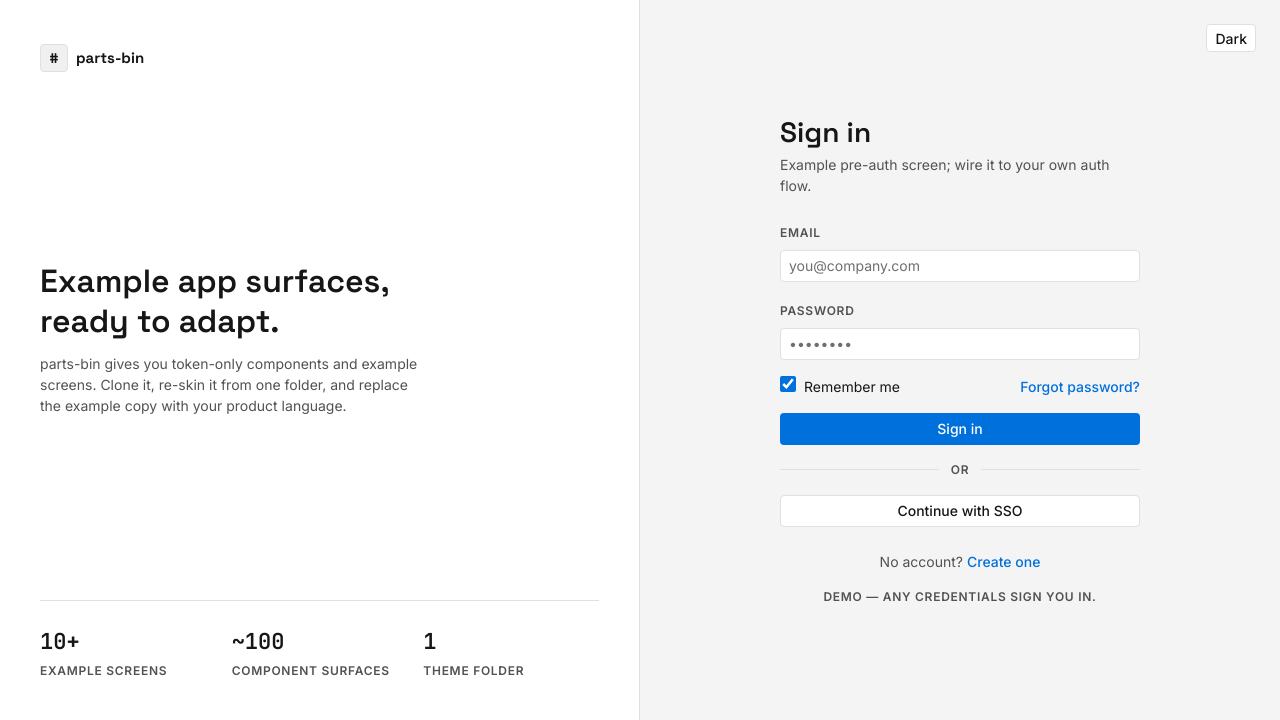
Scenario: empty submit surfaces an inline error and does not enter loading
This screenshot has width=1280, height=720.
Click the button "Sign in" at (960, 428), box [780,412,1140,444]
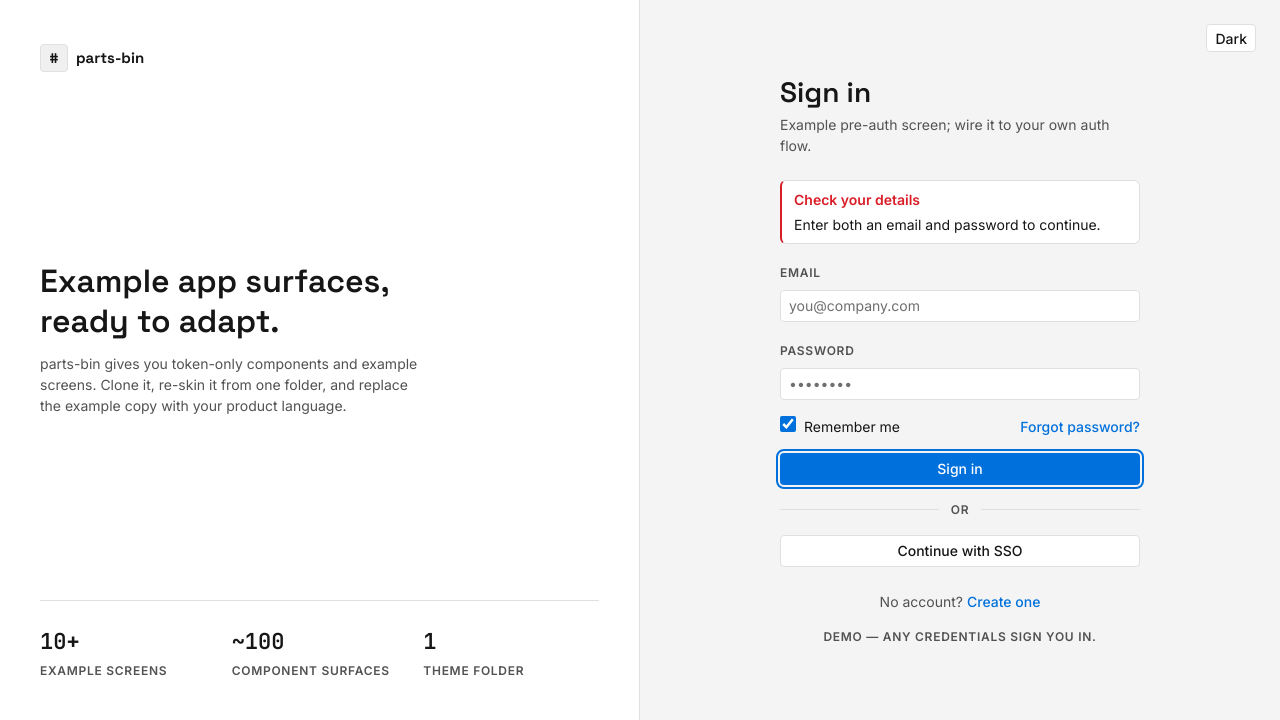
Expected: the message shows "Enter both an email and password", [794,216,1101,232]
